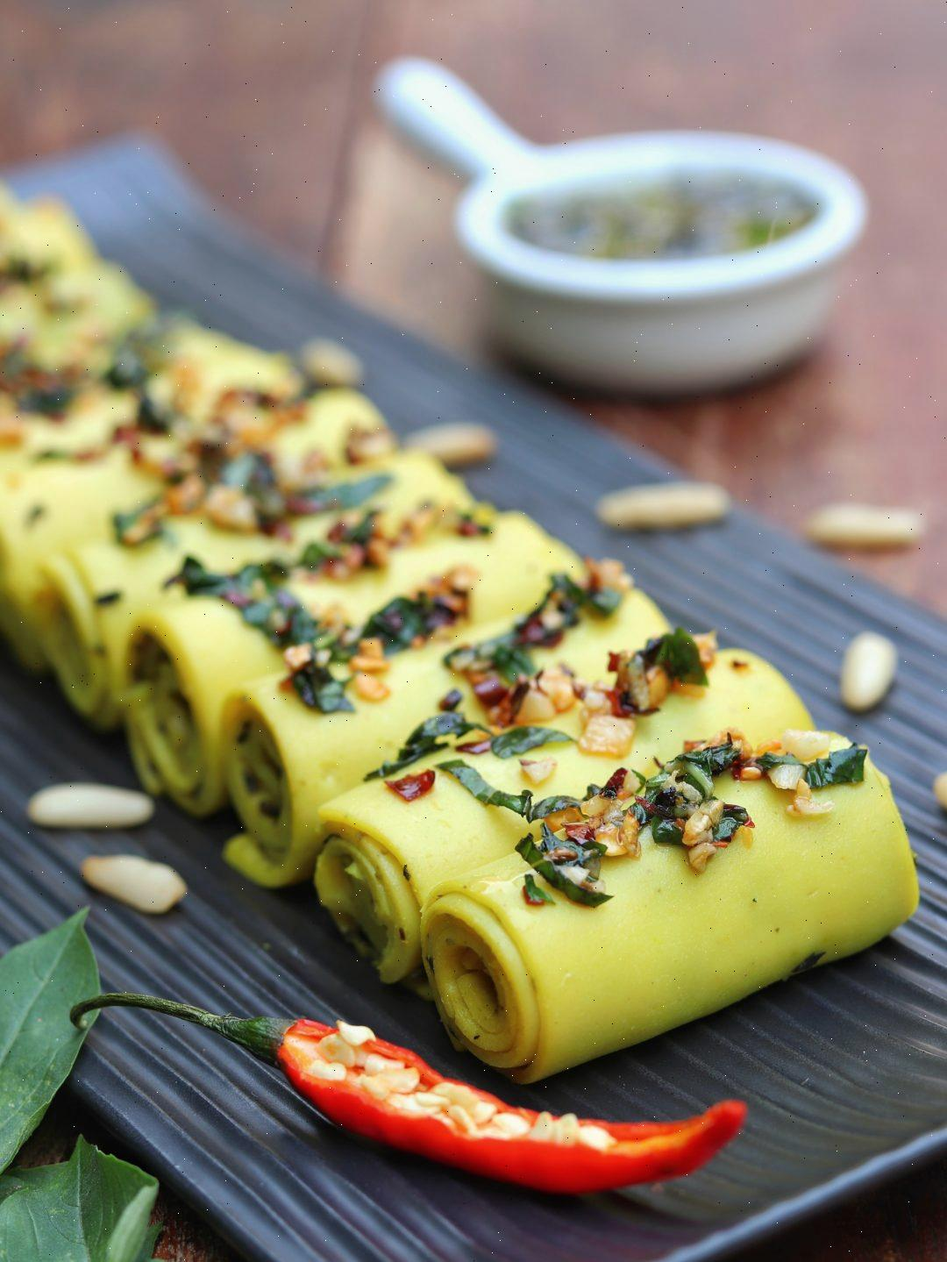khandvi: (3, 199, 935, 1023)
